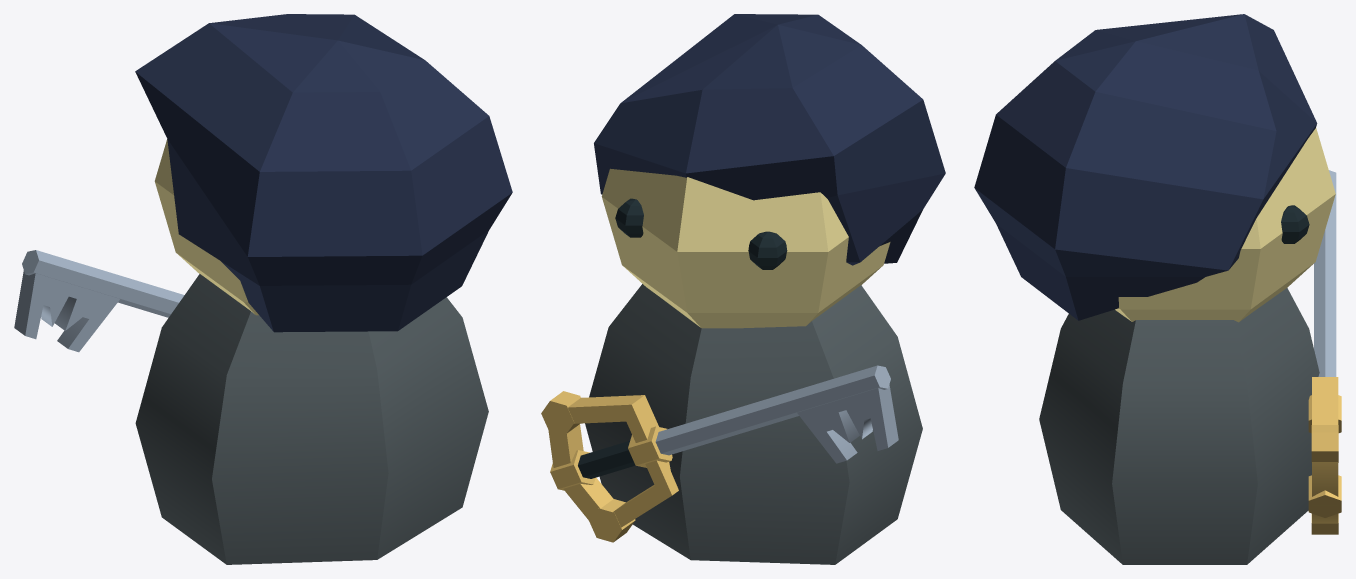
File: GazDoll_Mesh.fbx
3 views of the same model, side by side, from view 1: azimuth 30°, elevation 25°; view 2: azimuth 150°, elevation 25°; view 3: azimuth 270°, elevation 25° (orthographic). The views are drawn at different scales.
Visible parts, largest first — view 1: polySurface77; view 2: polySurface77; view 3: polySurface77.
Part boxes in pixels (x1,y1,x2,y2): polySurface77: (14,14,512,564); polySurface77: (541,14,945,564); polySurface77: (974,14,1341,564).
Size of the model in its own units: 4.24 by 5.53 by 3.93.
